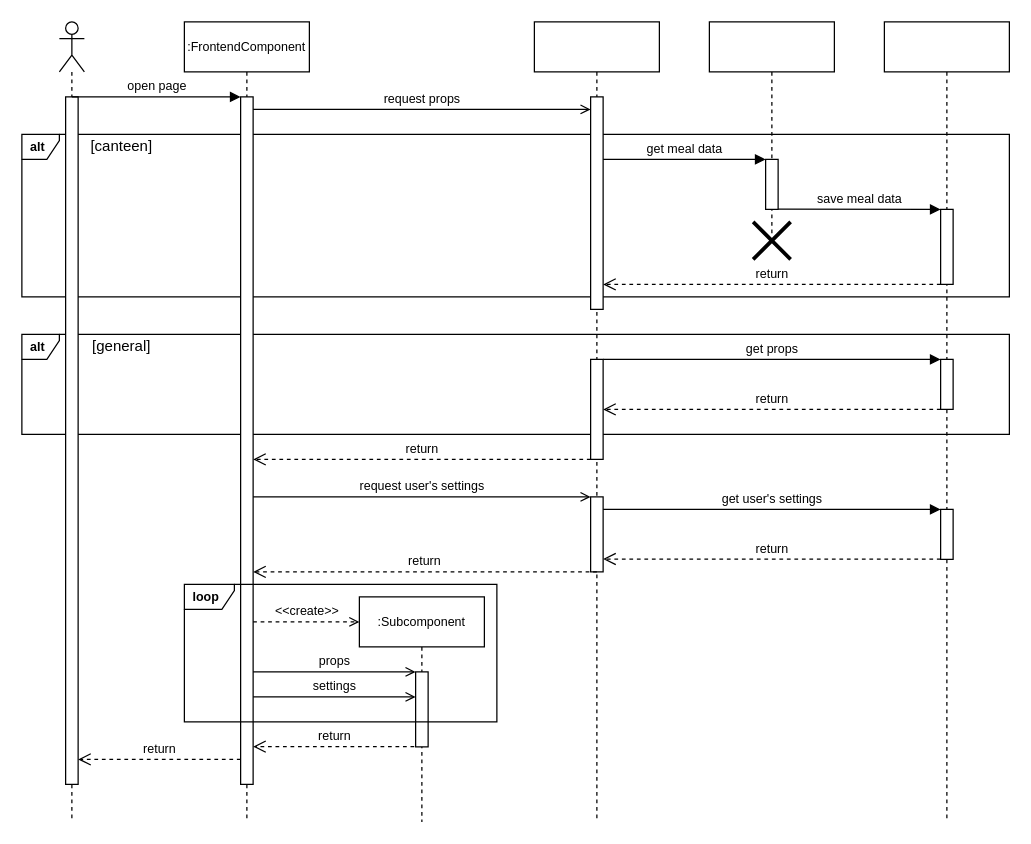
Some shapes in this 1031 by 844 pixel diagram are drawn without their labels. The shapes that lost their labels are listed below. From the top down, each one's centre as x and y in pixels, then its label:
At pixel 771 127: ":CanteenAPI".
At pixel 596 421: ":MicroService".
At pixel 946 421: ":Database".
